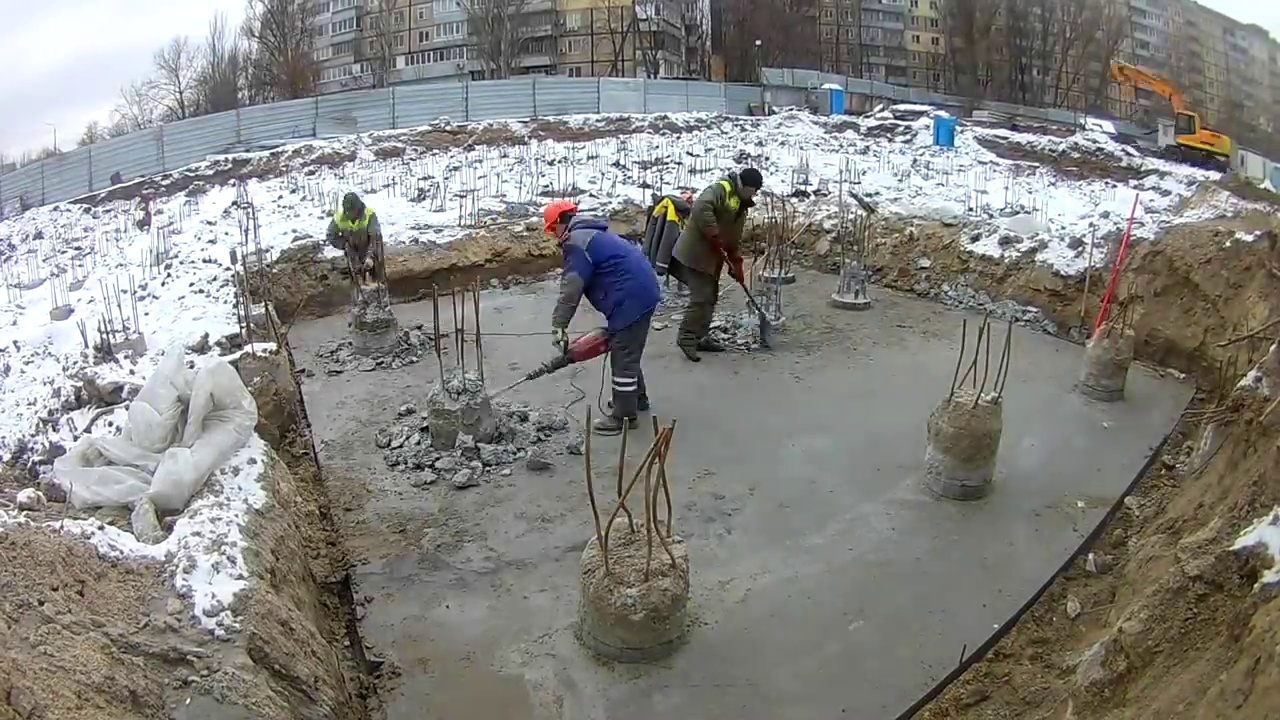helmet: (541, 201, 577, 232)
helmet-off: (730, 168, 764, 198), (339, 193, 365, 226)
helmet-on: (541, 202, 583, 240)
person: (541, 200, 662, 433), (668, 165, 765, 362), (325, 192, 387, 302)
